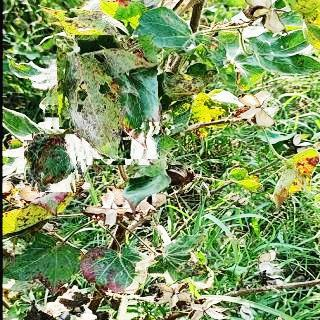blight: (45, 41, 162, 159), (26, 134, 82, 191)
